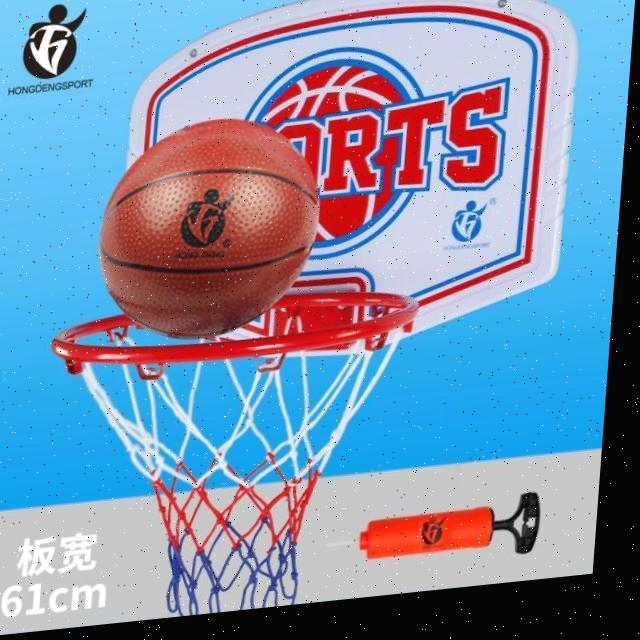Basketball: (95, 105, 323, 345)
